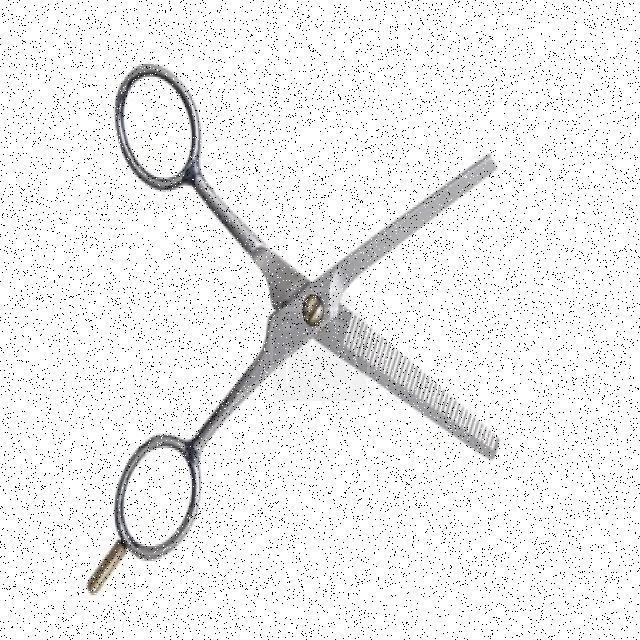scissors: (83, 58, 504, 600)
